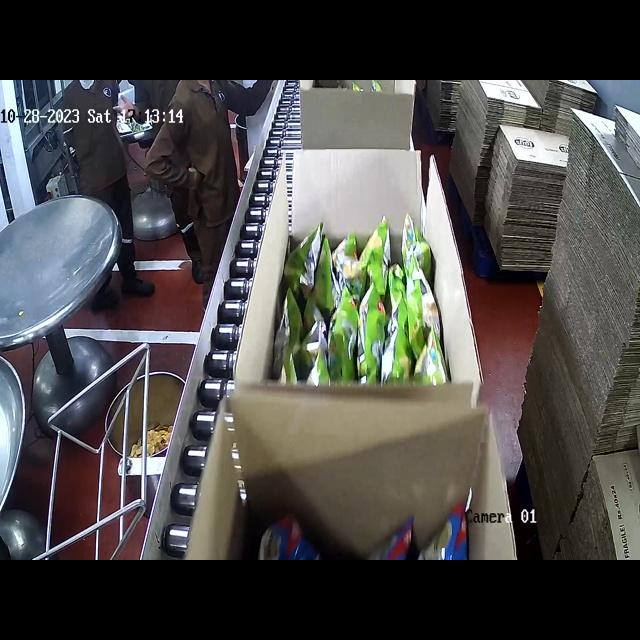paprika: (256, 501, 489, 560)
yogurt: (271, 212, 449, 386)
